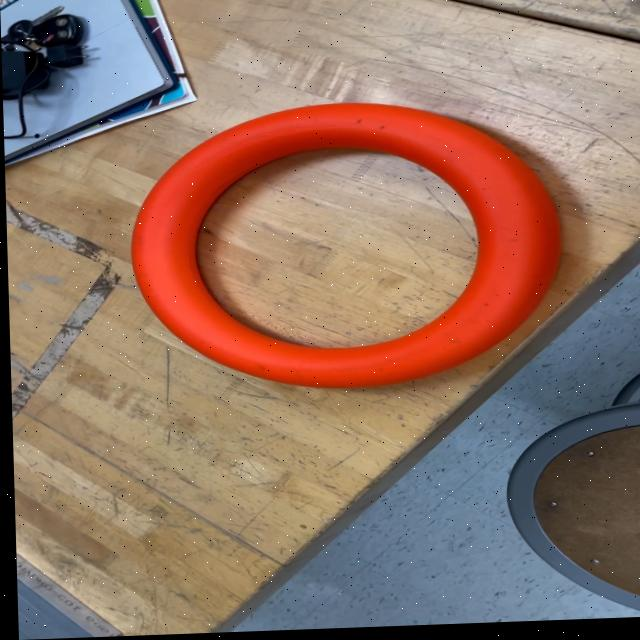note: (122, 98, 570, 399)
